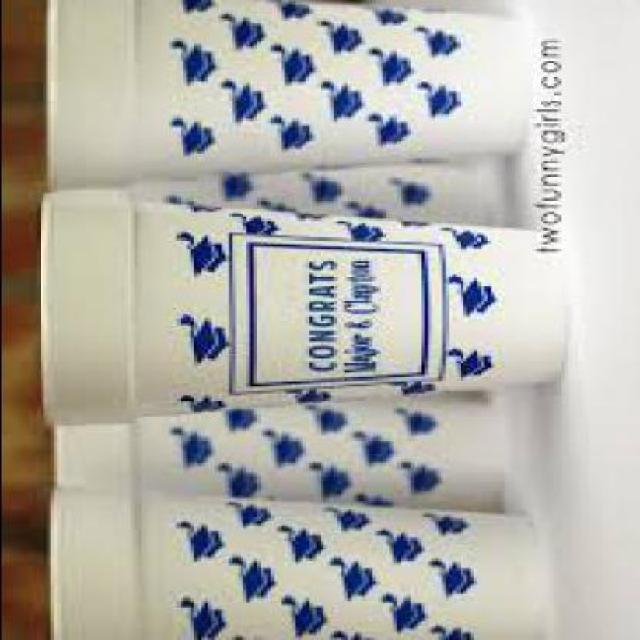PAPER: (35, 191, 552, 431), (41, 2, 522, 196), (40, 502, 549, 638), (46, 387, 497, 516), (115, 156, 511, 230)
